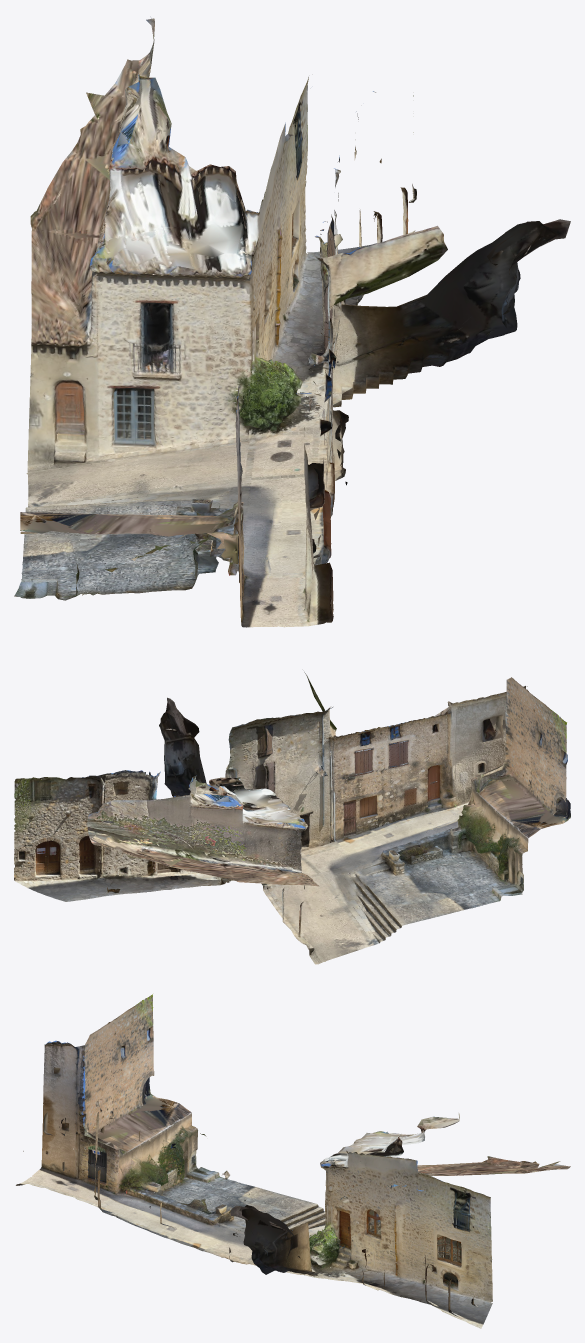
The model's file is medium.glb.
3 renders of one model, top to bottom at view 1: azimuth 30°, elevation 25°; view 2: azimuth 150°, elevation 25°; view 3: azimuth 270°, elevation 25°, orthographic. The views are drawn at different scales.
Visible parts, largest first — view 1: medium.027; view 2: medium.027; view 3: medium.027.
Boxes of the visible parts, box(x1,y1,x2,y2) form: medium.027: box(14, 16, 570, 627); medium.027: box(14, 672, 570, 964); medium.027: box(16, 994, 570, 1328).
Size of the model in its own units: 21.44 by 10.09 by 25.62.
Materials: 1 (1 with a texture image).
